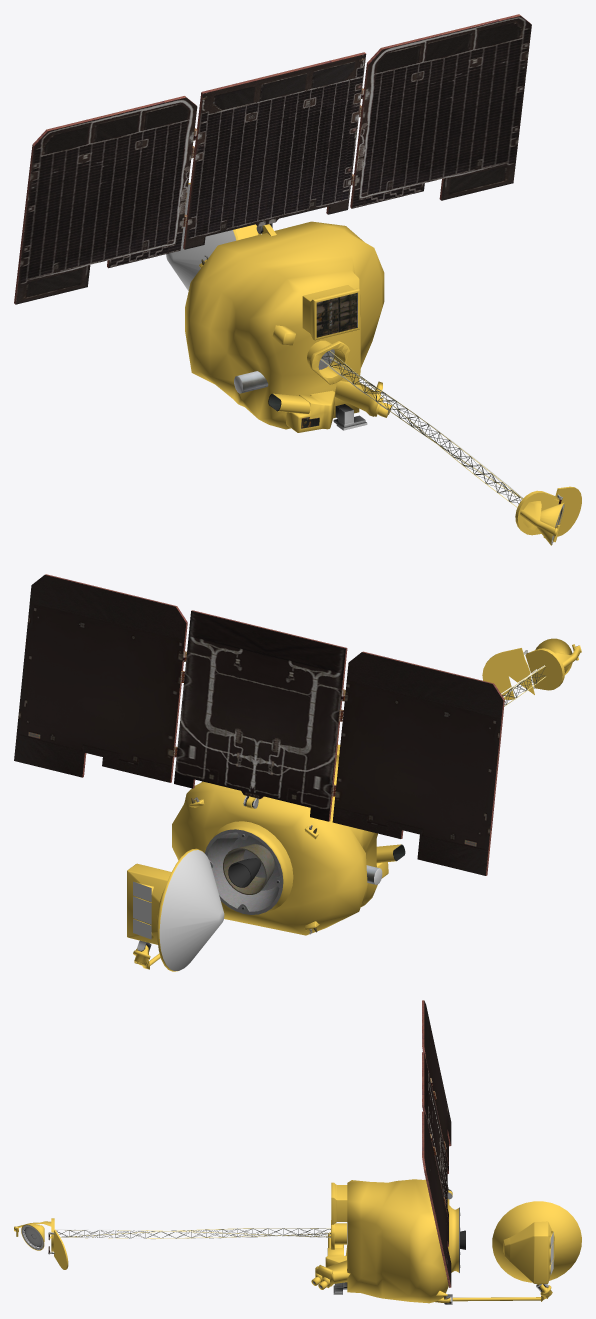
File: mars-odyssey.glb
The picture shows the model from 3 angles, top to bottom: view 1: azimuth 30°, elevation 25°; view 2: azimuth 150°, elevation 25°; view 3: azimuth 270°, elevation 25°; orthographic projection. The views are drawn at different scales.
Parts seen in each view (by area): view 1: shiny_panel, BUS, tex_02, tex_boom, tex_01, foil_silver; view 2: tex_01, tex_02, BUS, foil_silver, tex_04, normal_panels; view 3: BUS, tex_01, tex_02, tex_boom.
Part boxes in pixels (x1,y1,x2,y2): shiny_panel: (15, 16, 531, 304); BUS: (185, 183, 581, 545); tex_02: (14, 14, 530, 369); tex_boom: (320, 350, 523, 507); tex_01: (183, 88, 562, 504); foil_silver: (166, 184, 242, 393); tex_01: (14, 575, 534, 887); tex_02: (45, 574, 504, 914); BUS: (127, 638, 581, 971); foil_silver: (159, 850, 382, 970); tex_04: (191, 798, 378, 932); normal_panels: (133, 881, 151, 939); BUS: (14, 1179, 581, 1303); tex_01: (48, 1001, 546, 1303); tex_02: (422, 1000, 460, 1287); tex_boom: (56, 1228, 330, 1239).
Size of the model in its own units: 5.67 by 3.36 by 8.22.
Materials: 13 (8 with a texture image).
